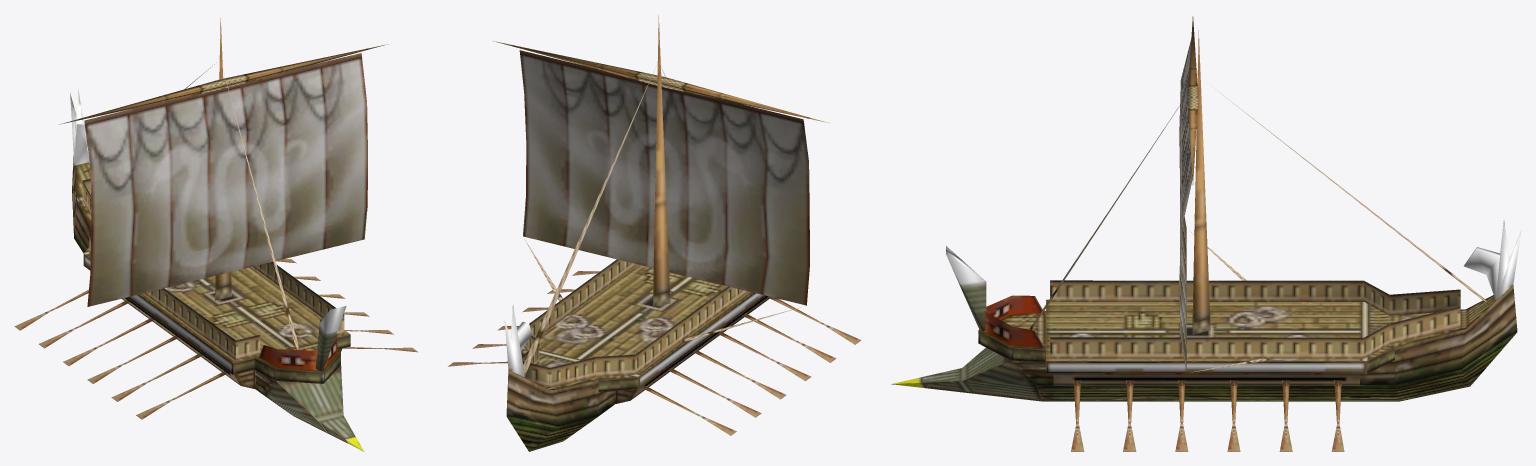
The model's file is hero_greek_argo_base.glb.
The picture shows the model from 3 angles, left to right: view 1: azimuth 30°, elevation 25°; view 2: azimuth 150°, elevation 25°; view 3: azimuth 270°, elevation 25°; orthographic projection. The views are drawn at different scales.
Visible parts, largest first — view 1: MeshRoot; view 2: MeshRoot; view 3: MeshRoot.
Boxes of the visible parts, <box> form: MeshRoot: <box>14,18,417,451</box>; MeshRoot: <box>448,15,861,451</box>; MeshRoot: <box>891,16,1521,451</box>.
Bounding box in the file's own units: 4.77 × 4.78 × 7.3.
Materials: 3 (3 with a texture image).
